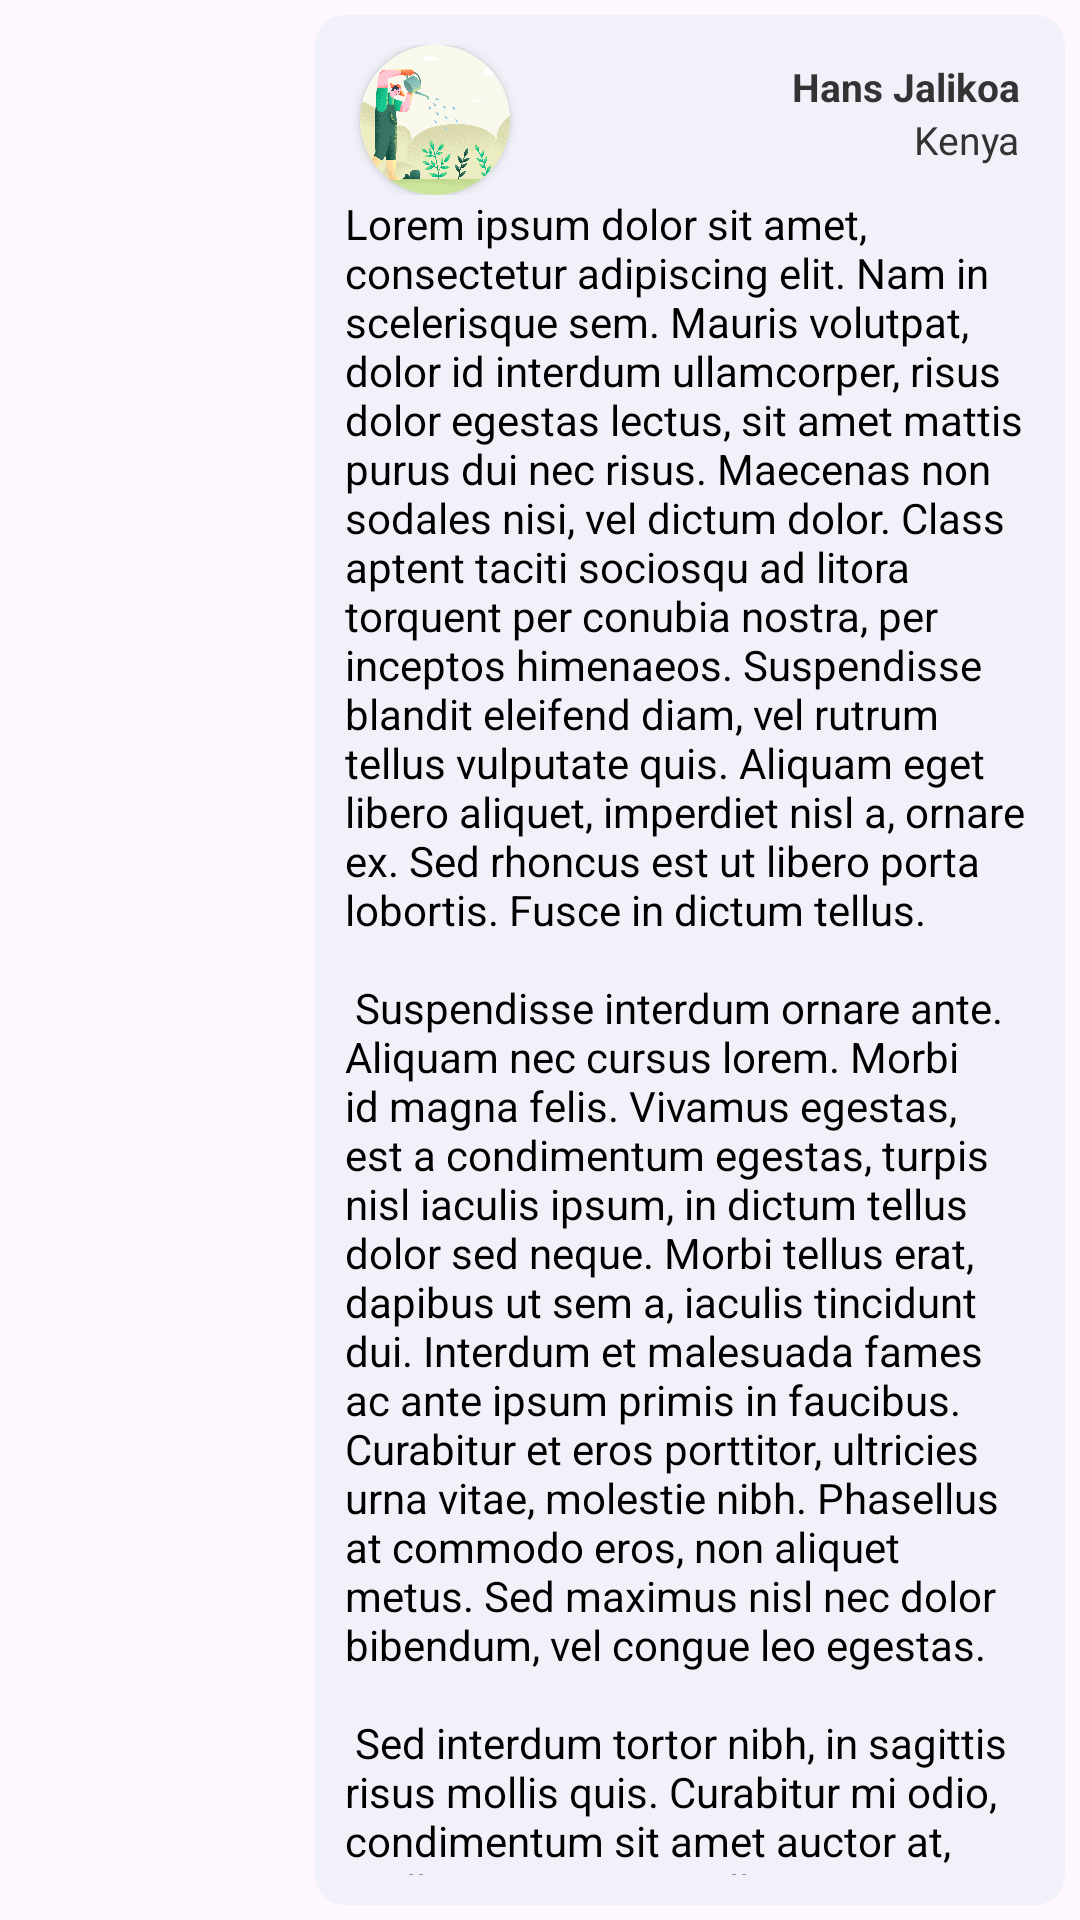

Icon bounding boxes for this 1080 x 1920 phone screenshot, format (x1, y1, x2, y2):
care trees: (360, 45, 510, 195)
